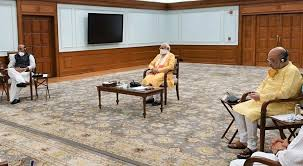Good: (145, 41, 300, 126), (10, 40, 178, 105)
